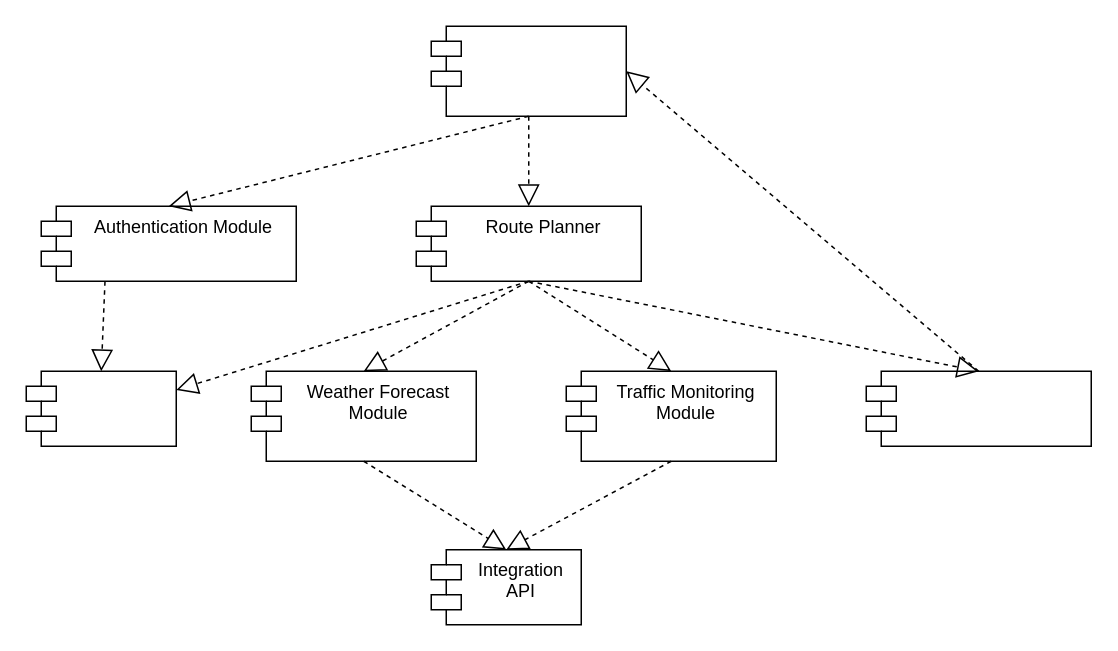
The diagram is 1118 pixels wide and 651 high, and some of its shapes have lost their labels. Each missing label, with the centre of its shape:
Data Storage: point 100,408
Notification Service: point 978,408
User Interface: point 528,70
